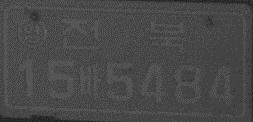1: (14, 57, 42, 97)
4: (139, 62, 168, 104), (208, 65, 235, 108)
5: (106, 60, 133, 103), (46, 59, 74, 99)
8: (173, 63, 202, 107)
바: (77, 63, 102, 101)
영: (16, 16, 49, 50)
전북_D: (60, 17, 185, 53)
